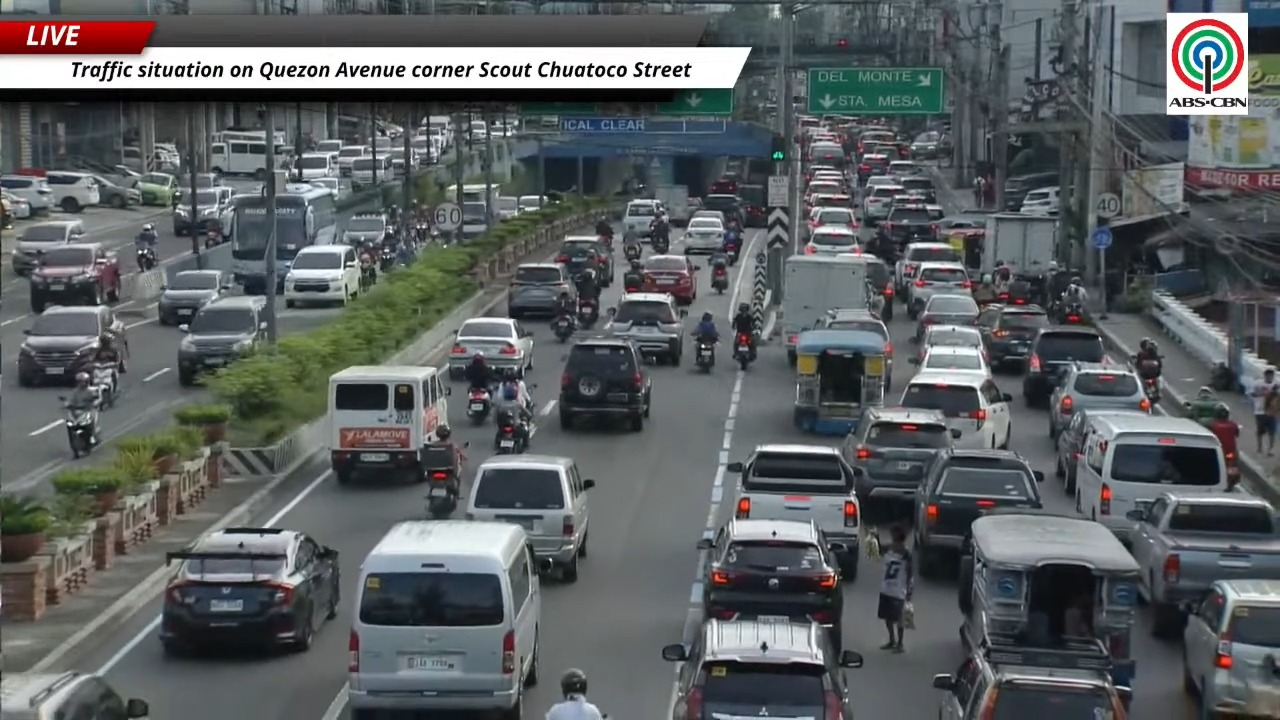bus: (275, 188, 338, 287), (210, 133, 266, 179), (209, 128, 265, 142)
car: (159, 527, 340, 655), (662, 619, 862, 719), (697, 518, 844, 648), (466, 454, 595, 582), (914, 448, 1042, 576), (933, 639, 1131, 719), (1183, 578, 1279, 716), (841, 408, 957, 516), (18, 306, 128, 386), (557, 338, 651, 431), (899, 371, 1011, 448), (177, 296, 266, 386), (1055, 408, 1145, 495), (1048, 362, 1151, 438), (0, 671, 149, 719), (1022, 325, 1106, 406), (30, 242, 121, 313), (603, 292, 686, 365), (820, 308, 893, 390), (448, 317, 533, 378), (283, 244, 361, 307), (976, 304, 1048, 367), (11, 220, 86, 275), (157, 270, 230, 325), (894, 242, 962, 300), (507, 263, 575, 318), (907, 262, 971, 319), (877, 195, 938, 246), (915, 293, 979, 340), (555, 236, 614, 286), (172, 187, 231, 235), (642, 255, 698, 304), (913, 346, 990, 376), (916, 325, 982, 360), (44, 171, 100, 212), (1004, 171, 1059, 211), (0, 174, 53, 215), (802, 207, 858, 240), (804, 225, 860, 255), (342, 212, 390, 246), (92, 174, 139, 208), (862, 184, 900, 226), (134, 172, 179, 206), (622, 199, 661, 237), (684, 217, 723, 254), (703, 194, 744, 225), (1019, 186, 1061, 216), (738, 184, 766, 227), (805, 178, 846, 204), (898, 175, 935, 203), (938, 212, 985, 233), (808, 167, 848, 191), (0, 190, 32, 219), (858, 153, 888, 183), (308, 177, 348, 199), (910, 131, 940, 159), (806, 193, 853, 209), (891, 190, 929, 209), (708, 174, 739, 194), (690, 209, 726, 226), (495, 196, 518, 221), (889, 160, 922, 176), (518, 195, 546, 213), (865, 175, 898, 189)
motorcycle: (423, 442, 460, 518), (59, 396, 97, 458), (426, 469, 457, 518), (494, 410, 528, 454), (91, 363, 117, 409), (1136, 358, 1161, 404), (467, 388, 491, 425), (1209, 361, 1238, 391), (734, 333, 751, 370), (695, 339, 714, 372), (552, 315, 574, 343), (722, 231, 740, 265), (578, 298, 598, 328), (360, 255, 376, 292), (136, 246, 158, 272), (1061, 302, 1085, 324), (1143, 376, 1160, 404), (711, 265, 728, 293), (380, 245, 396, 272), (204, 229, 222, 248), (624, 243, 642, 262), (415, 221, 429, 244), (651, 236, 669, 253), (624, 276, 642, 292), (598, 233, 613, 251)
truck: (1126, 491, 1279, 638), (725, 444, 860, 581), (780, 255, 867, 365), (980, 213, 1057, 276), (654, 184, 690, 226)
